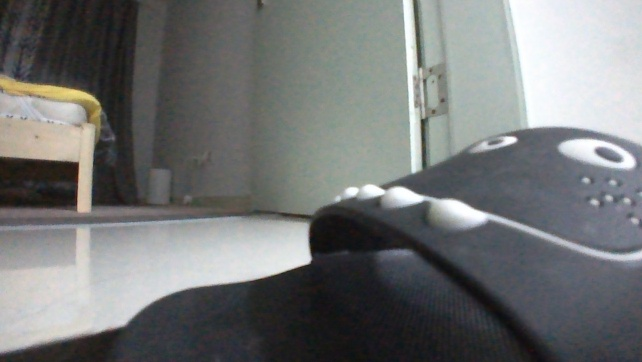bed1: (0, 71, 120, 215)
door_anno: (243, 0, 462, 225)
slipper: (109, 122, 641, 361)
